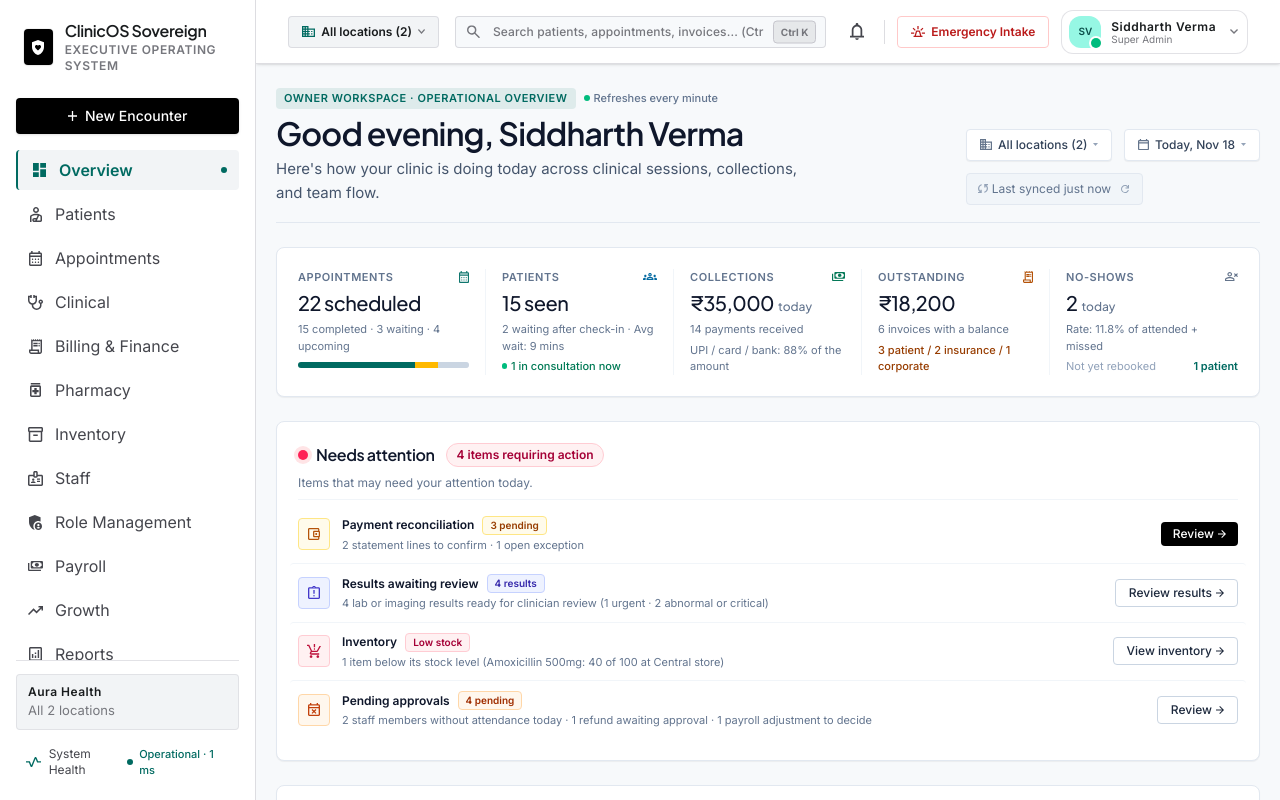
it: workspace header › says so when nothing is open
Check: the text "22 scheduled" is shown, box [298, 290, 421, 315]
What coordinates should you click on to do the following:
click the button named "Alerts"
I would click on:
 (857, 32)
Its box is [842, 15, 872, 48].
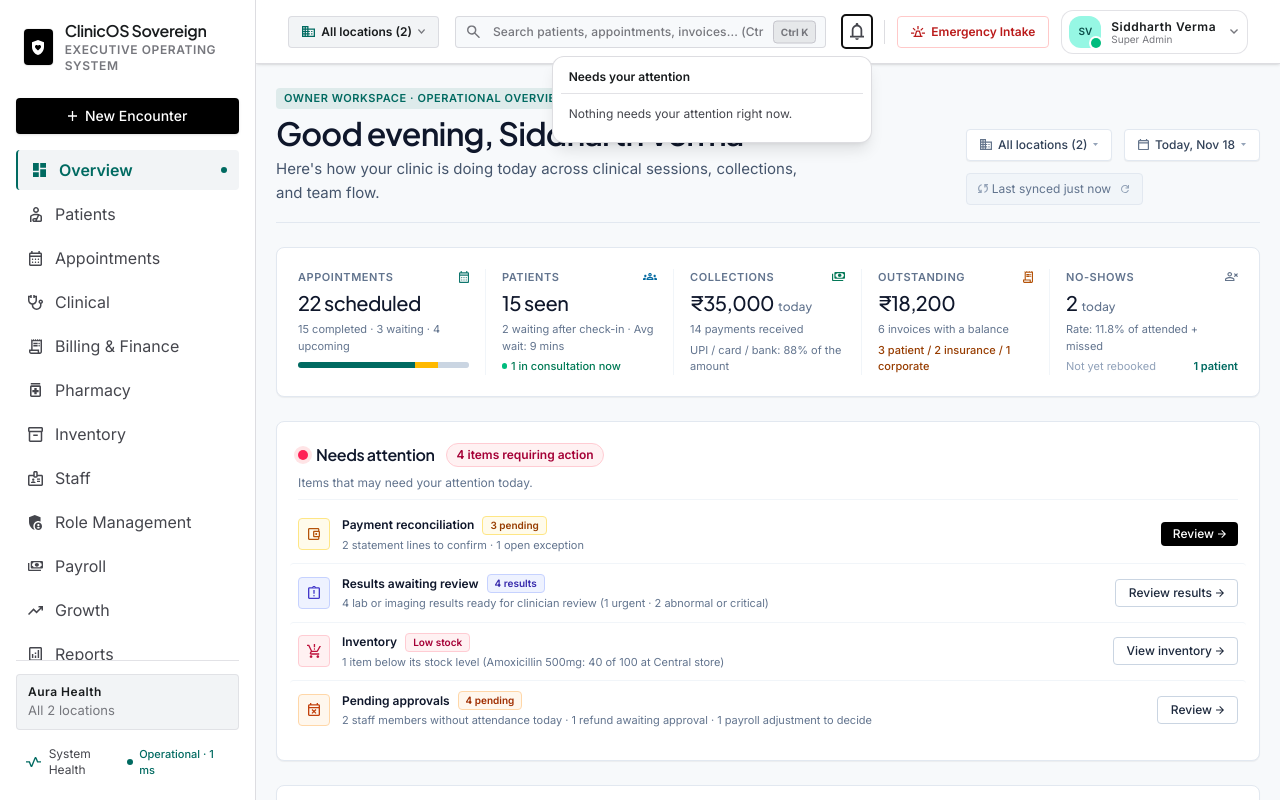
Check: the text "Nothing needs your attention right now." is shown, box [569, 106, 792, 121]
